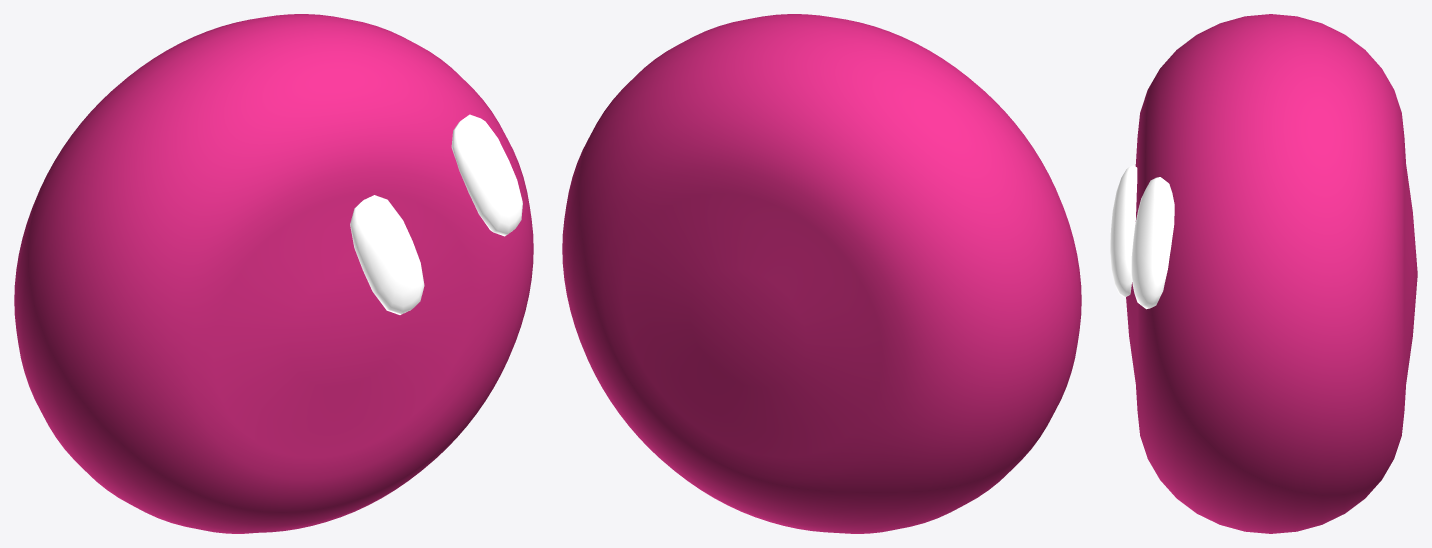
The model's file is jevopus.glb.
3 renders of one model, left to right at view 1: azimuth 30°, elevation 25°; view 2: azimuth 150°, elevation 25°; view 3: azimuth 270°, elevation 25°, orthographic. The views are drawn at different scales.
Parts seen in each view (by area): view 1: body, eye_L, eye_R; view 2: body; view 3: body, eye_R, eye_L.
Boxes of the visible parts, bbox=[...] form: body: bbox=[14, 14, 533, 533]; eye_L: bbox=[350, 195, 424, 314]; eye_R: bbox=[451, 114, 522, 236]; body: bbox=[562, 14, 1081, 533]; body: bbox=[1126, 14, 1417, 533]; eye_R: bbox=[1131, 177, 1174, 309]; eye_L: bbox=[1110, 165, 1137, 297].
Bounding box in the file's own units: 0.8 × 0.7568 × 0.461.
